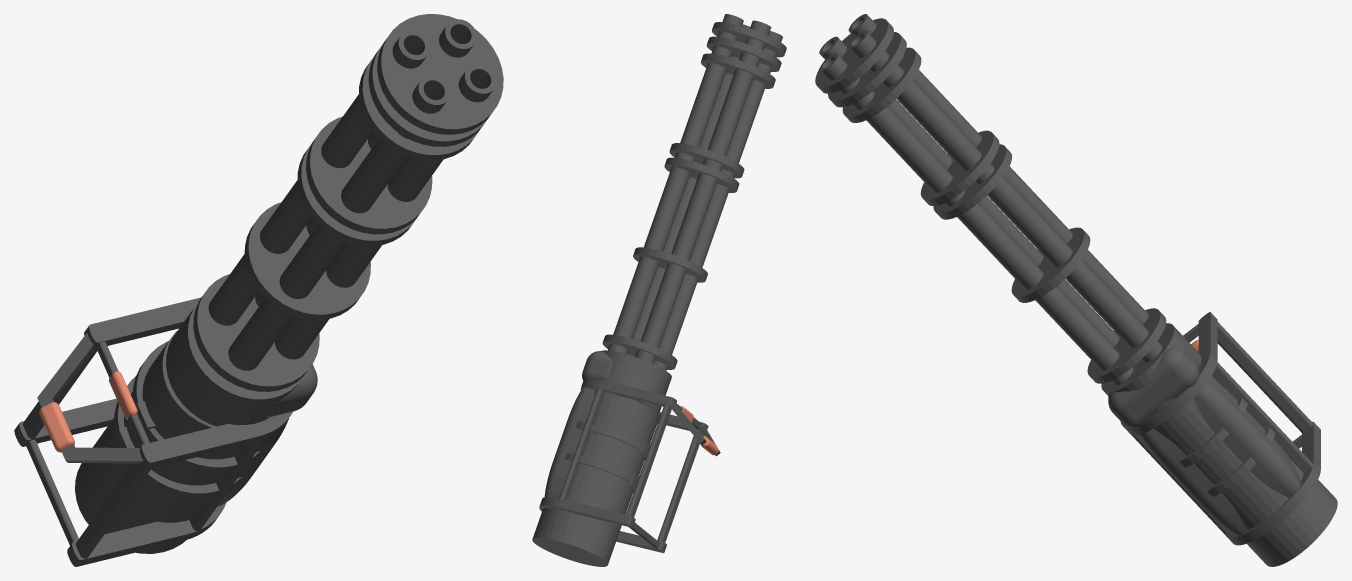
File: minigun.glb
3 renders of one model, left to right at view 1: azimuth 30°, elevation 25°; view 2: azimuth 150°, elevation 25°; view 3: azimuth 270°, elevation 25°, orthographic. The views are drawn at different scales.
Visible parts, largest first — view 1: Minigun; view 2: Minigun; view 3: Minigun.
Boxes of the visible parts, x1,y1,x2,y2 form: Minigun: (14,14,503,566); Minigun: (532,14,786,566); Minigun: (815,14,1337,566).
Size of the model in its own units: 0.8698 by 2.61 by 2.31.
